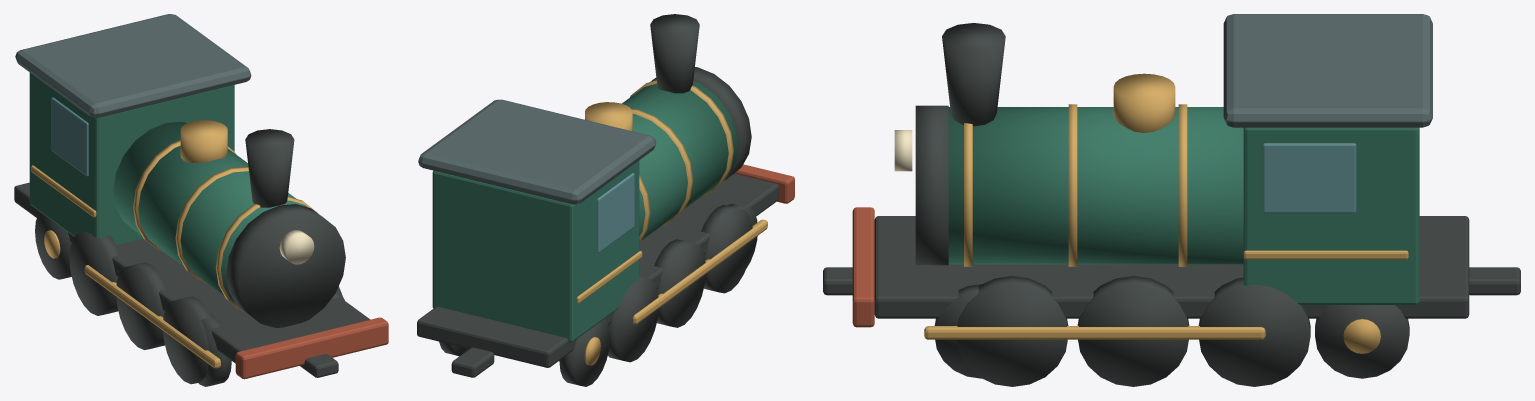
The model's file is locomotive.glb.
3 views of the same model, side by side, from view 1: azimuth 30°, elevation 25°; view 2: azimuth 150°, elevation 25°; view 3: azimuth 270°, elevation 25° (orthographic). The views are drawn at different scales.
Visible parts, largest first — view 1: locomotive_iron, locomotive_green.001, locomotive_roof, locomotive_brass, locomotive_red, locomotive_glass, locomotive_cream; view 2: locomotive_green.001, locomotive_iron, locomotive_roof, locomotive_brass, locomotive_glass, locomotive_red; view 3: locomotive_iron, locomotive_green.001, locomotive_roof, locomotive_brass, locomotive_glass, locomotive_red, locomotive_cream.
Boxes of the visible parts, <box> form: locomotive_iron: <box>14,129,369,386</box>; locomotive_green.001: <box>29,72,307,302</box>; locomotive_roof: <box>15,14,251,117</box>; locomotive_brass: <box>31,120,317,368</box>; locomotive_red: <box>235,317,388,379</box>; locomotive_glass: <box>51,97,88,176</box>; locomotive_cream: <box>279,230,314,264</box>; locomotive_green.001: <box>432,79,737,342</box>; locomotive_iron: <box>417,14,778,386</box>; locomotive_roof: <box>418,99,656,204</box>; locomotive_brass: <box>576,80,767,365</box>; locomotive_glass: <box>597,173,634,252</box>; locomotive_red: <box>734,164,794,203</box>; locomotive_iron: <box>823,23,1520,386</box>; locomotive_green.001: <box>948,107,1419,304</box>; locomotive_roof: <box>1223,14,1432,127</box>; locomotive_brass: <box>924,73,1408,353</box>; locomotive_glass: <box>1262,143,1356,213</box>; locomotive_red: <box>852,207,874,327</box>; locomotive_cream: <box>894,130,912,171</box>.
Size of the model in its own units: 2.2 by 3.06 by 6.34.
